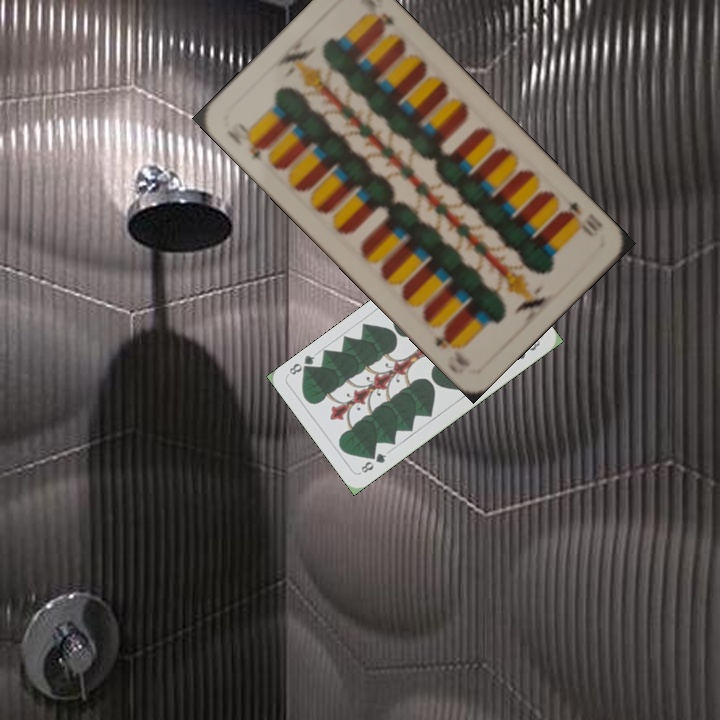E10: (556, 197, 606, 235), (236, 133, 271, 164)
G8: (357, 449, 389, 476)
